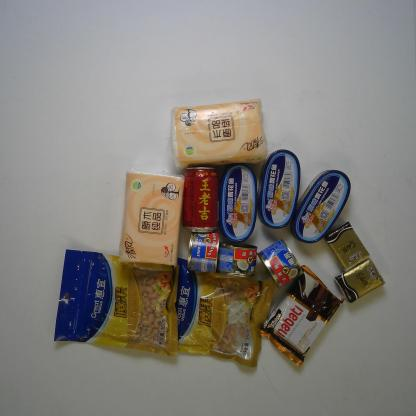Canned Food: (290, 169, 352, 244), (257, 148, 302, 231), (219, 162, 258, 244), (256, 238, 306, 290), (217, 242, 259, 278), (186, 231, 220, 274)
Dessert: (259, 264, 346, 368)
Dried Fruit: (53, 248, 185, 359), (152, 257, 278, 367)
Drink: (182, 165, 219, 234)
Tissue: (169, 96, 269, 173), (118, 167, 186, 268), (323, 220, 371, 272), (332, 258, 386, 304)
